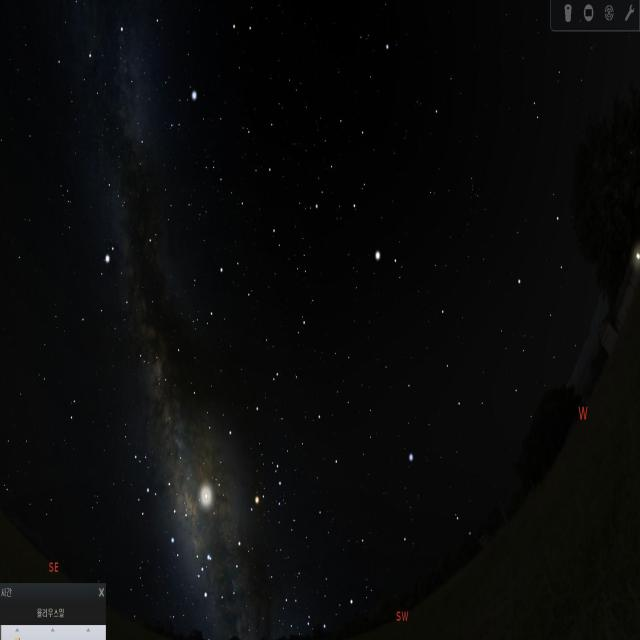aquila: (75, 199, 164, 381)
bootes: (310, 110, 414, 295)
lyra: (161, 90, 204, 140)
moon: (188, 466, 225, 525)
sagittarius: (122, 441, 197, 550)
scorpius: (194, 450, 293, 607)
